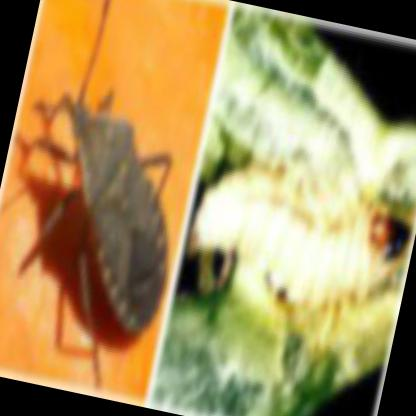ash weevil: (31, 1, 171, 340)
